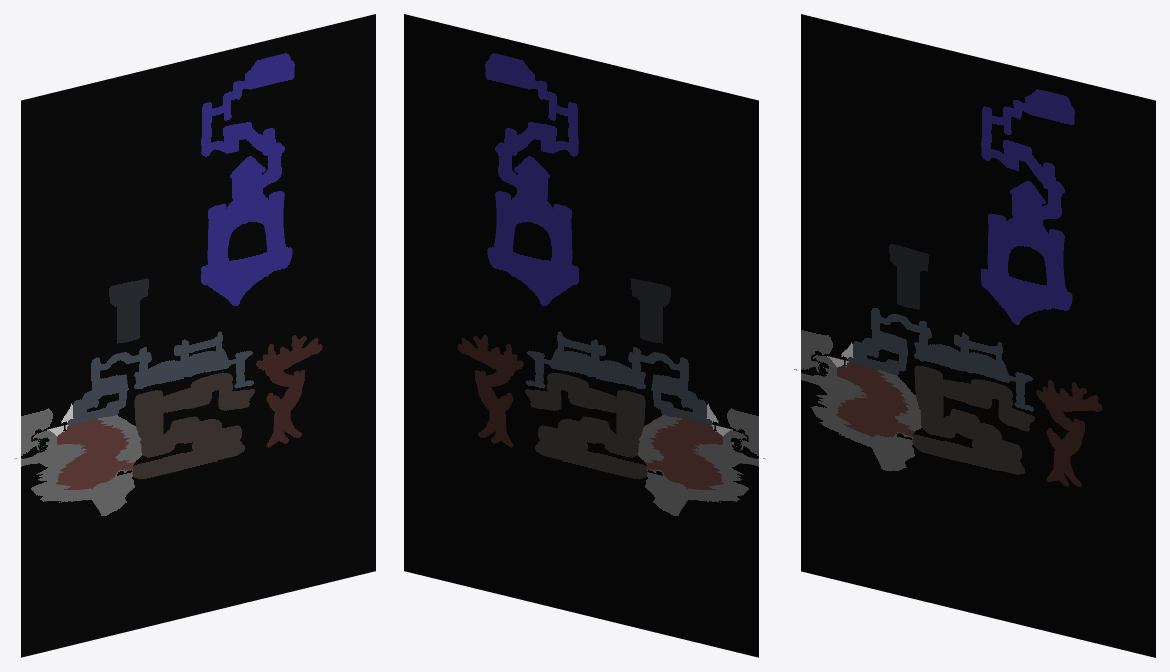
File: worldmap.gltf
3 views of the same model, side by side, from view 1: azimuth 30°, elevation 25°; view 2: azimuth 150°, elevation 25°; view 3: azimuth 330°, elevation 25° (orthographic).
Parts seen in each view (by area): view 1: tilemap; view 2: tilemap; view 3: tilemap.
Boxes of the visible parts, x1=… form: tilemap: x1=21, y1=14, x2=375, y2=657; tilemap: x1=404, y1=14, x2=758, y2=657; tilemap: x1=801, y1=14, x2=1155, y2=657.
Bounding box in the file's own units: 1019 × 1500 × 1.45.
Materials: 2 (2 with a texture image).
